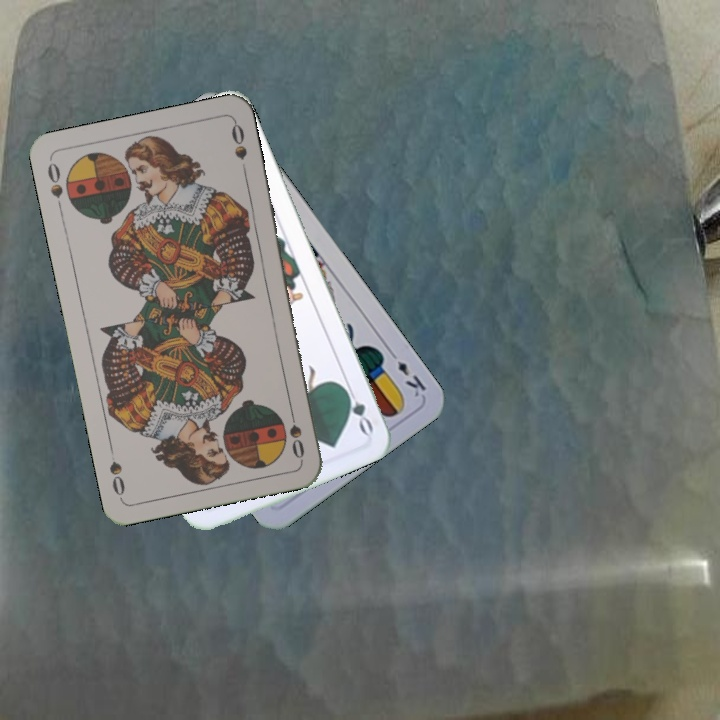EK: (385, 346, 429, 400)
GO: (338, 380, 376, 437)
SO: (43, 158, 66, 216), (285, 403, 307, 461)
